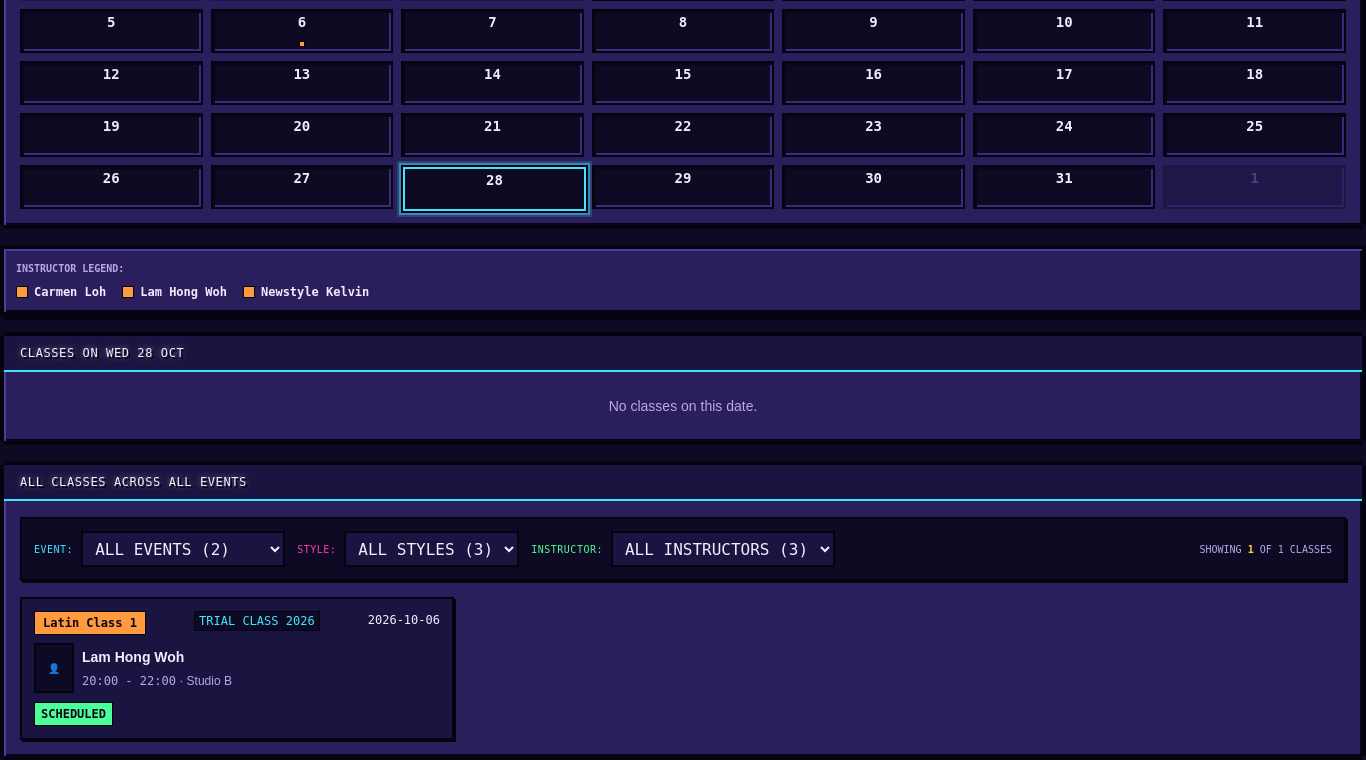
Test case: ClassesPage Filter Component › the class editor does not fall back to the style default instructor
This screenshot has width=1366, height=760.
(page scrolled)
Click the text "Latin Class 1" at [90, 623], box x1=34 y1=611 x2=146 y2=635
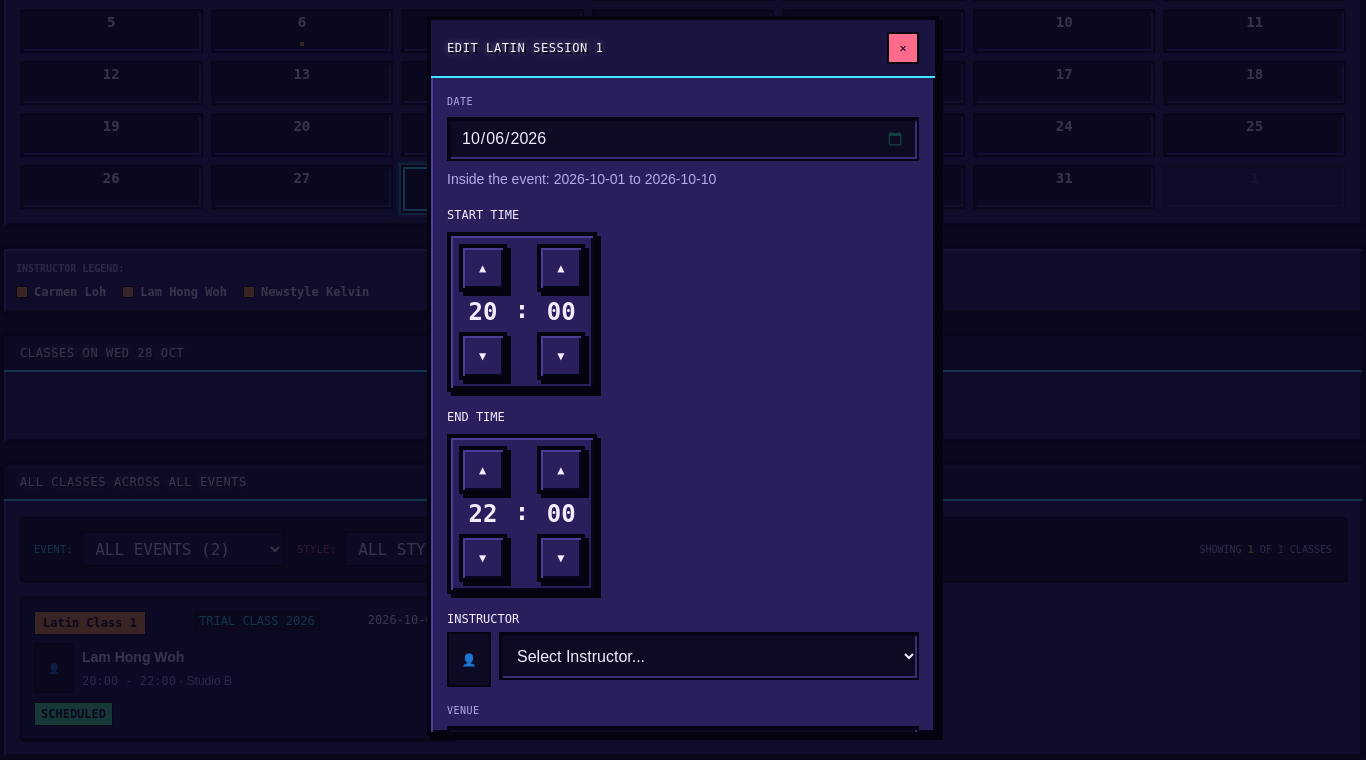
Result: the dropdown labelled "Instructor" shows "Select Instructor..." at x1=499 y1=632 x2=919 y2=680
